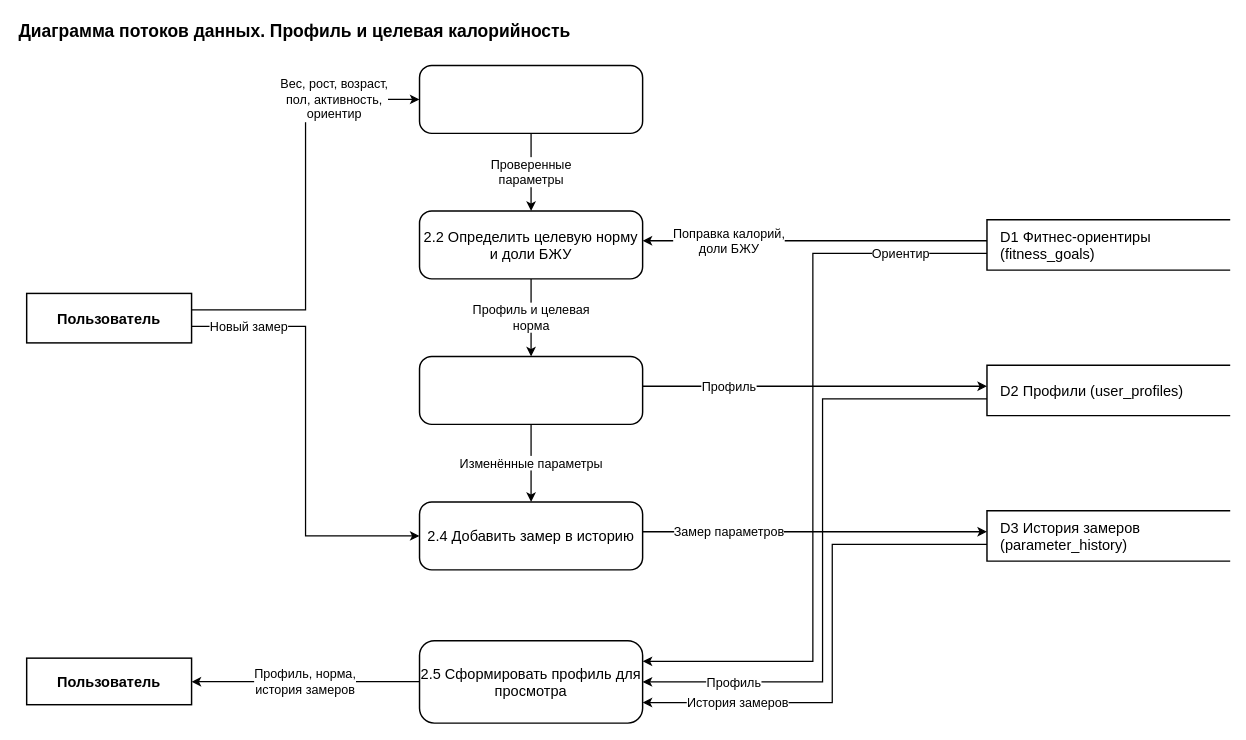
Image size: 1246x740. Some labels were removed from this diagram. The centre of each missing label's shape, as x and y in pixels:
"2.1 Проверить допустимые диапазоны параметров" goes at [530,99].
"2.3 Сохранить профиль" goes at [530,390].
